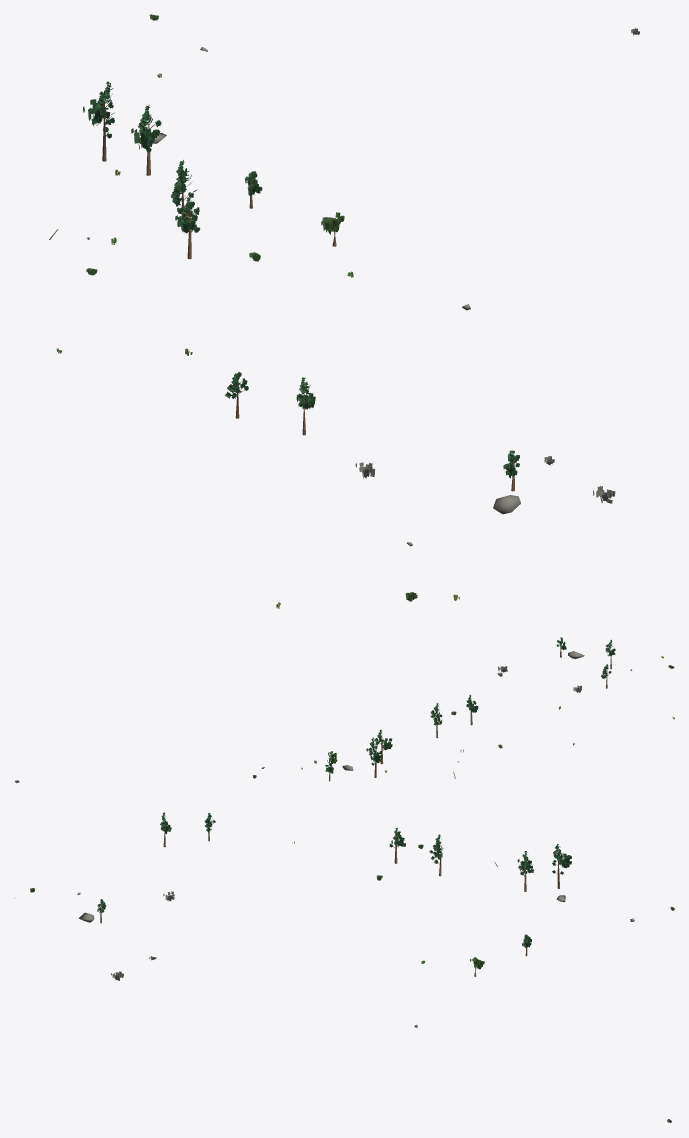
Rendered from arch_land_scatter_c17_19.glb.
The picture shows the model from 3 angles, top to bottom: view 1: azimuth 30°, elevation 25°; view 2: azimuth 150°, elevation 25°; view 3: azimuth 270°, elevation 25°; orthographic projection. The views are drawn at different scales.
Parts seen in each view (by area): view 1: arch_land_scatter_c17_19; view 2: arch_land_scatter_c17_19; view 3: arch_land_scatter_c17_19.
Boxes of the visible parts, x1=… form: arch_land_scatter_c17_19: x1=49, y1=14, x2=639, y2=608; arch_land_scatter_c17_19: x1=15, y1=637, x2=674, y2=782; arch_land_scatter_c17_19: x1=30, y1=812, x2=674, y2=1122.
Bounding box in the file's own units: 154 × 34.37 × 176.
